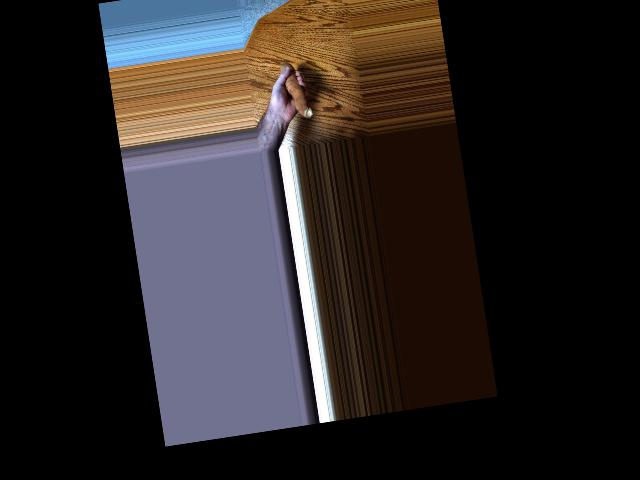sweet_potato: (280, 57, 313, 124)
